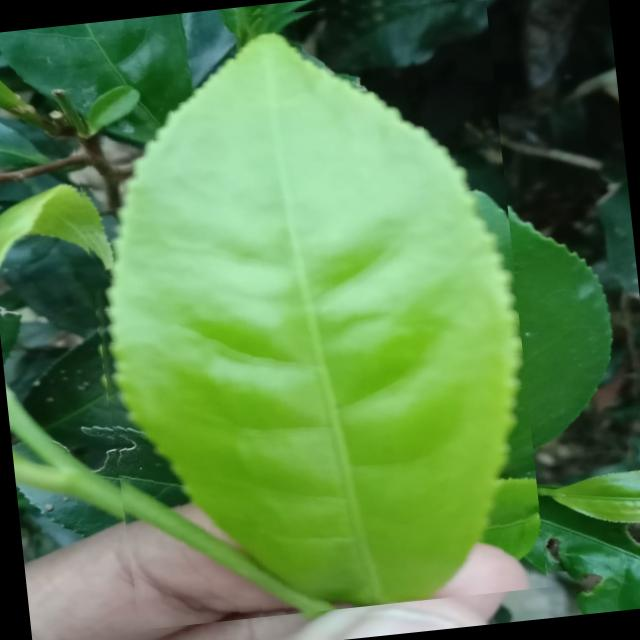Category C(4-7 days): (58, 0, 547, 631)
